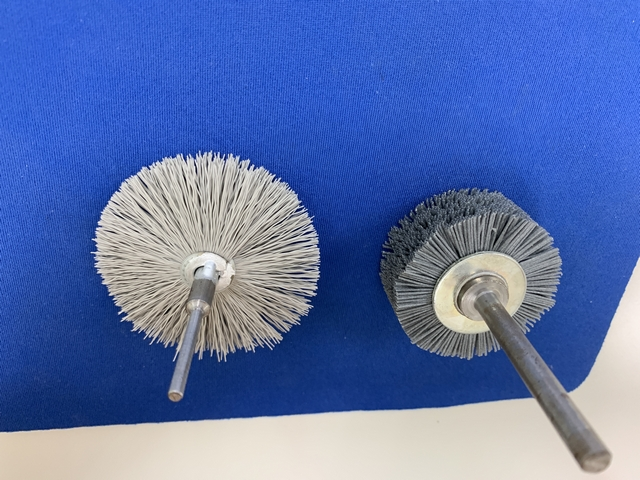TOOL: (83, 147, 326, 402), (140, 148, 332, 409), (85, 200, 313, 407), (87, 147, 248, 404)
Wheel Brush: (380, 175, 616, 473), (379, 238, 624, 472), (385, 177, 584, 362), (383, 177, 524, 371), (439, 178, 565, 376)
